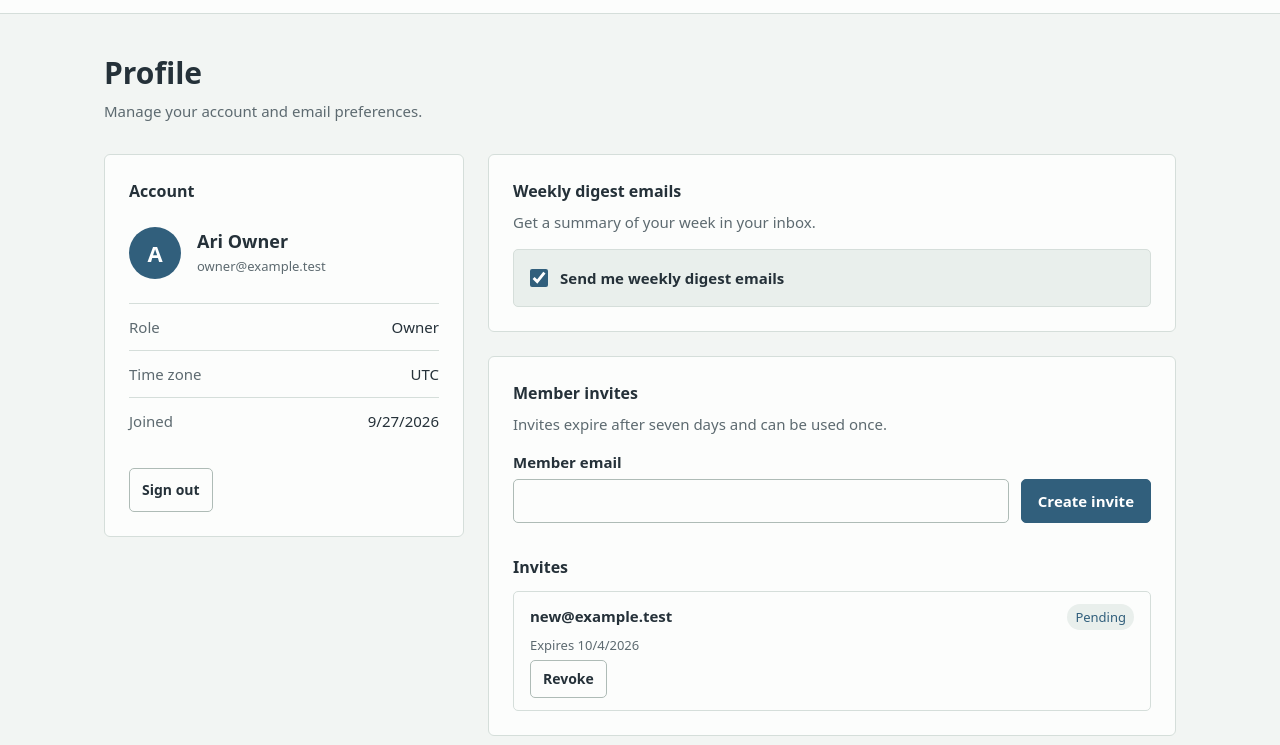
Test case: owner and member authorization UI › lets owners manage invites from the profile page
Expected: the heading "Profile" is shown, [104,52,202,93]
Expected: the heading "Member invites" is shown, [513,382,638,404]
Type "created@example.test" into the field labelled "Member email" at (761, 501), box [513,479,1009,523]
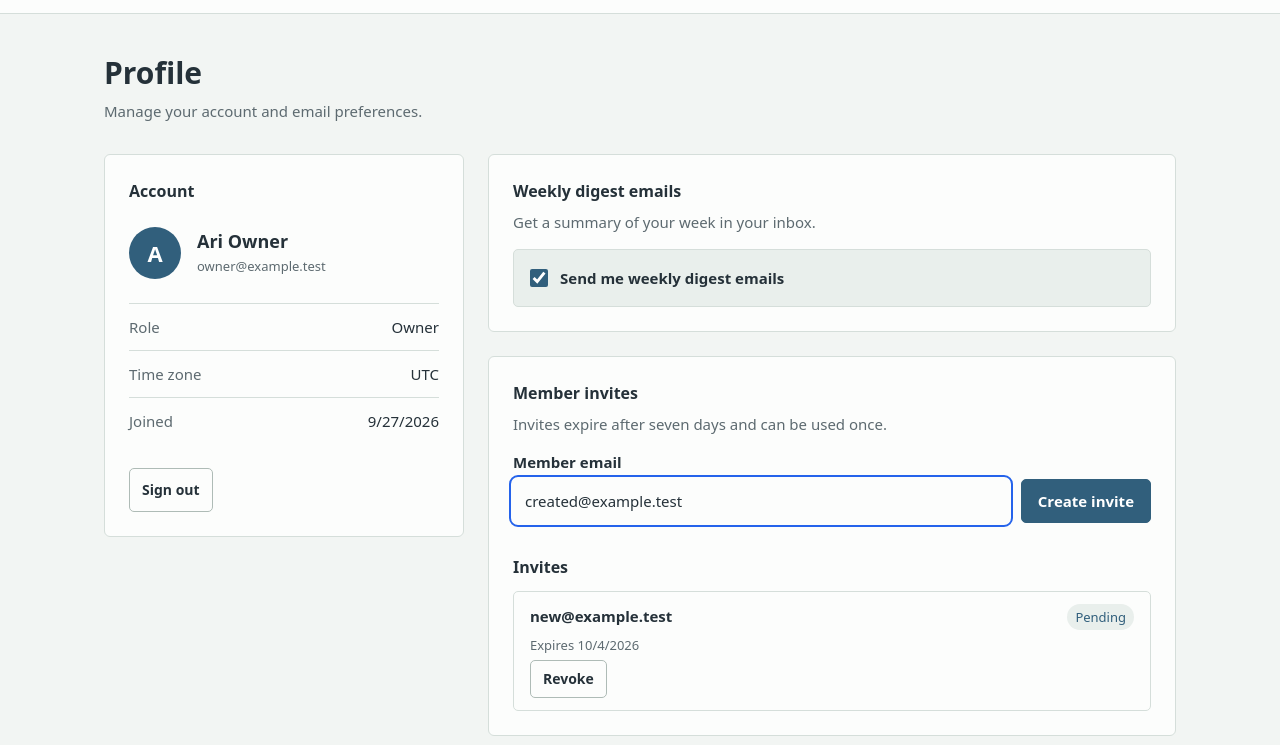
Click the button "Create invite" at (1086, 501), box [1021,479,1151,523]
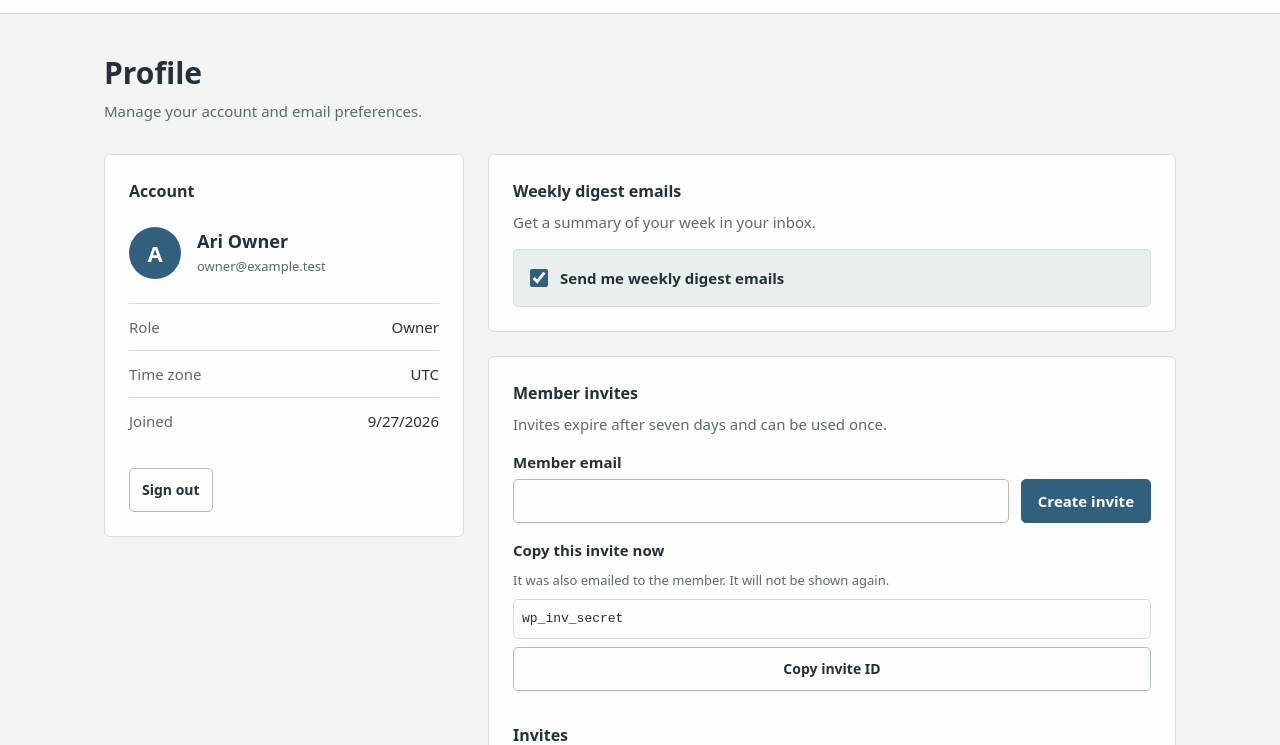
Expected: the text "wp_inv_secret" is shown, [513,599,1151,639]
Expected: the text "also emailed to the member" is shown, [513,571,889,589]
Click the button "Copy invite ID" at (832, 669), box [513,647,1151,691]
(page scrolled)
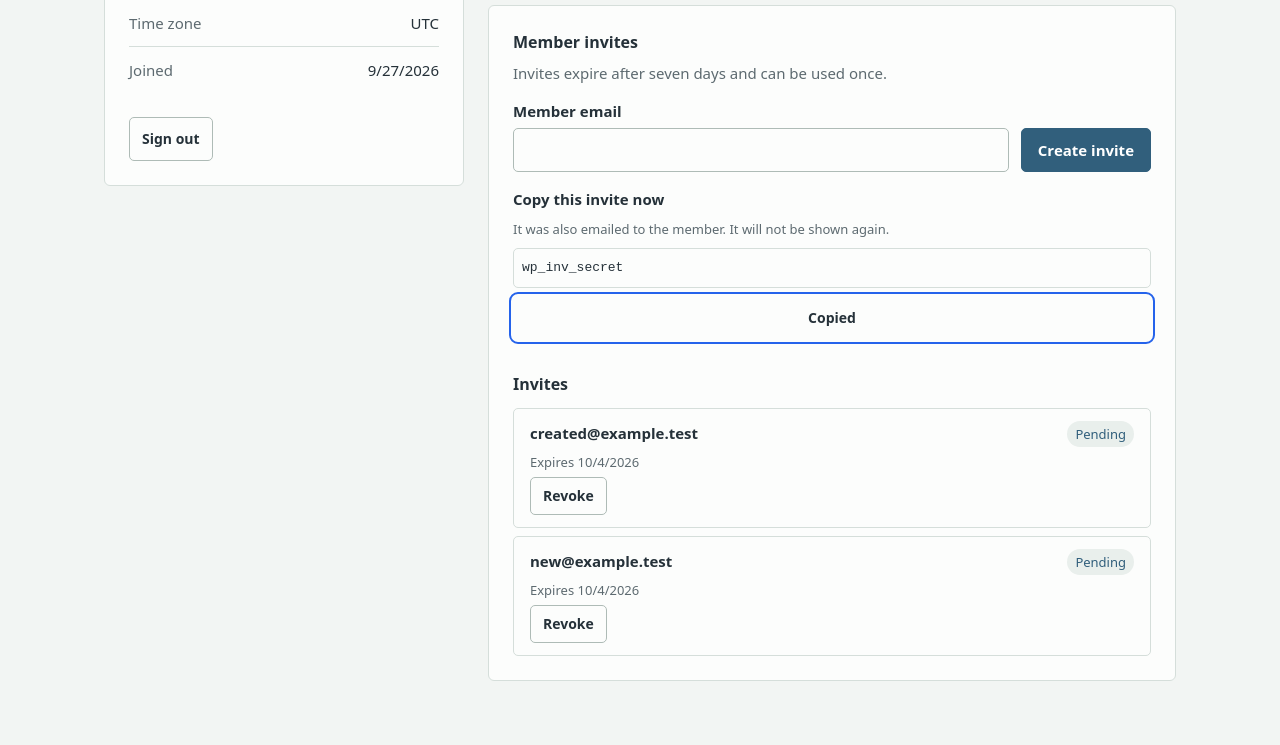
Expected: the button "Copied" is shown, [513,296,1151,340]
Click the button "Revoke" below "created@example.test" at (568, 496), box [530,477,607,515]
(page scrolled)
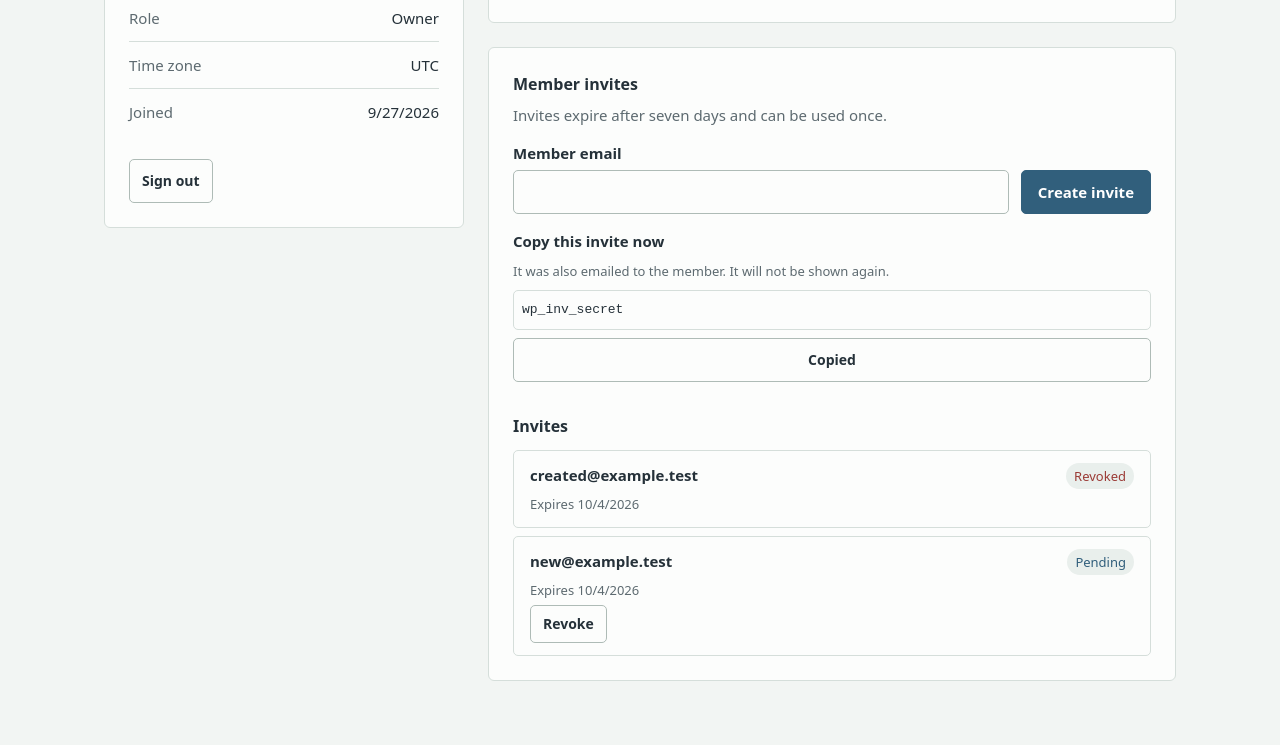
Expected: the text "Revoked" is shown, [1066,463,1134,489]
